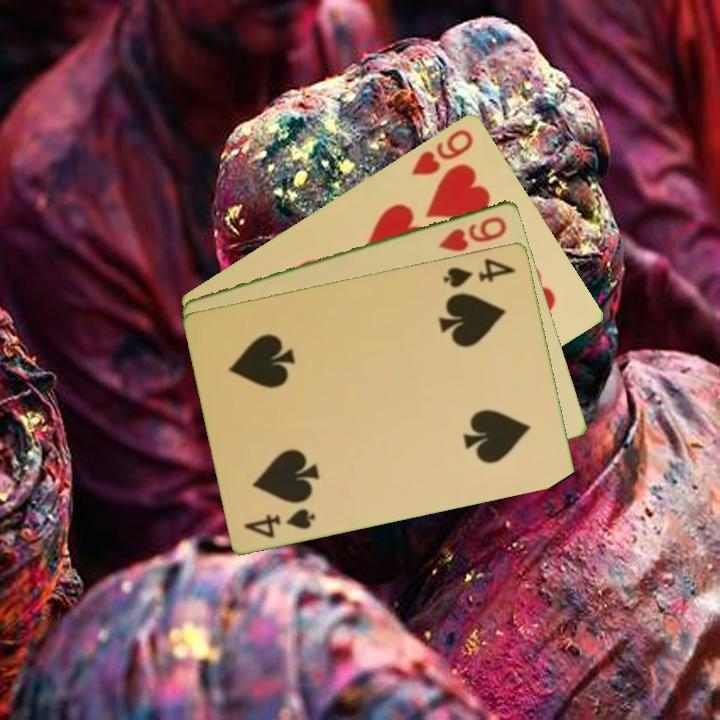4s: (440, 254, 519, 291), (240, 504, 319, 540)
9h: (407, 125, 477, 178), (435, 212, 510, 254)
